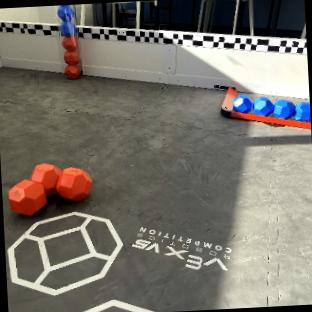V5_BLUE: (57, 4, 75, 35), (253, 96, 273, 115), (273, 100, 294, 118), (232, 95, 252, 112), (295, 101, 310, 120)
V5_RED: (8, 163, 91, 216), (62, 35, 79, 77)
